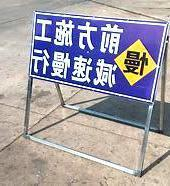sign: (25, 11, 168, 103)
